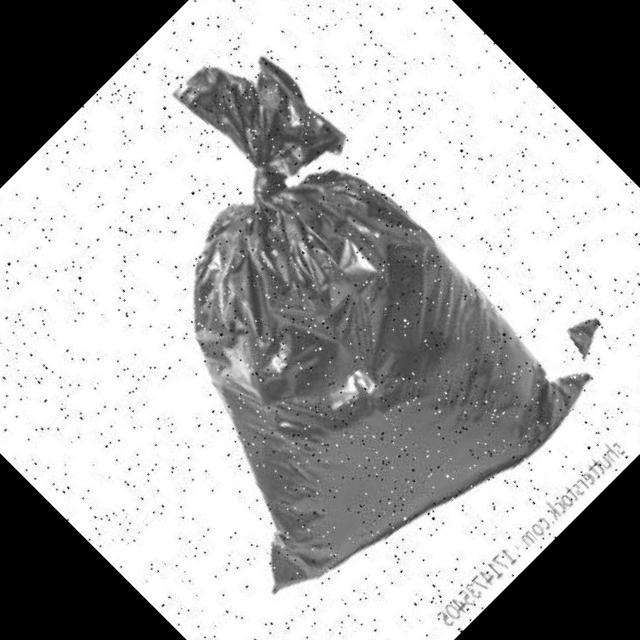KantongPlastik: (0, 20, 604, 640)
